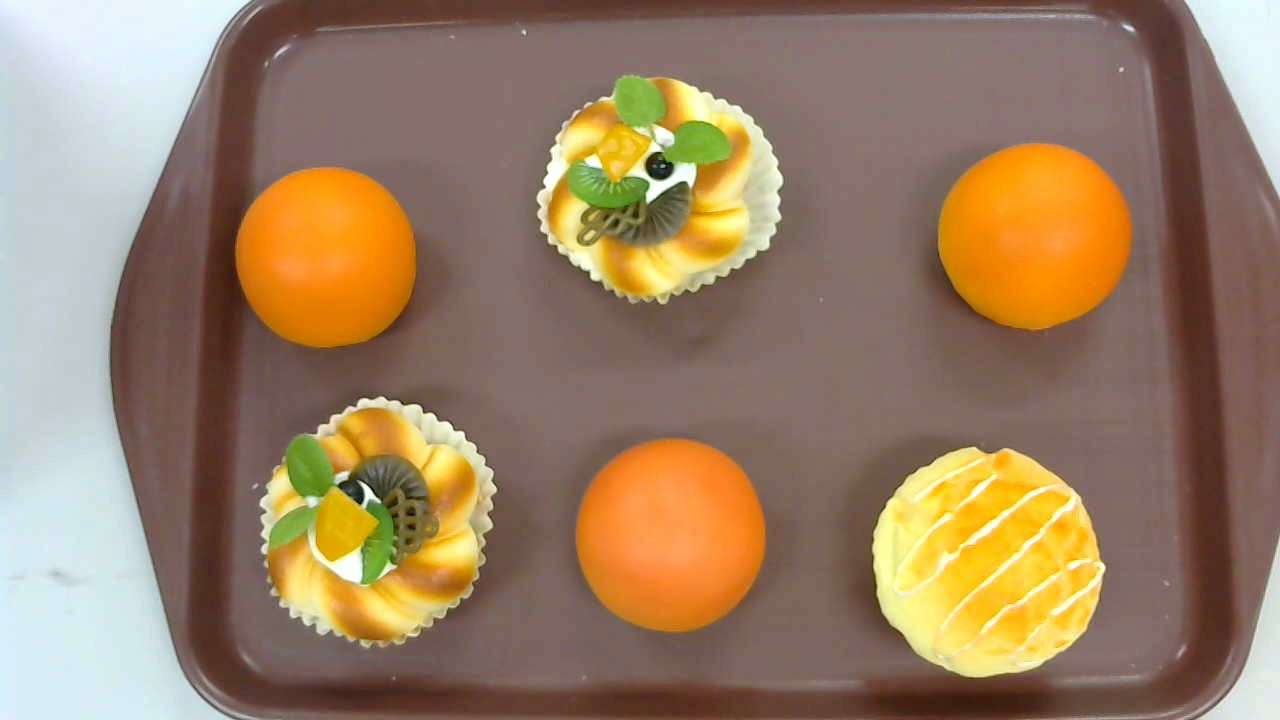bun: (573, 438, 767, 634), (937, 142, 1132, 329), (234, 166, 415, 350)
cupcake: (872, 445, 1105, 678)
fruit tart: (259, 395, 496, 649), (536, 74, 784, 307)
